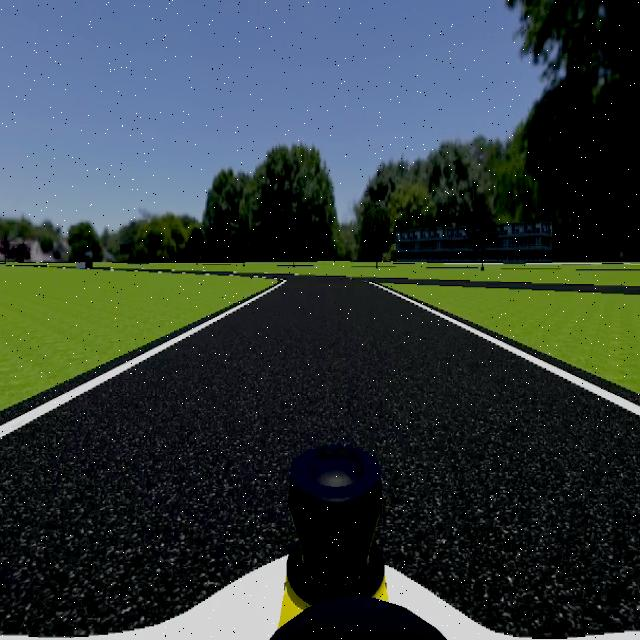road: (0, 278, 640, 636)
solid_line: (0, 281, 284, 441), (373, 284, 640, 420)
